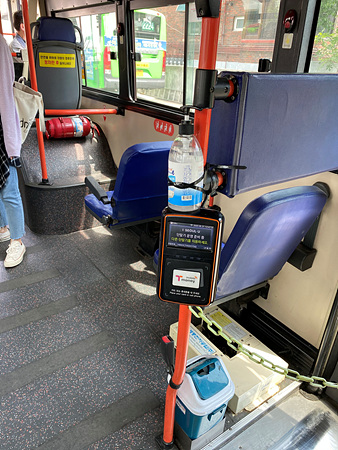terminal: (160, 204, 216, 304)
